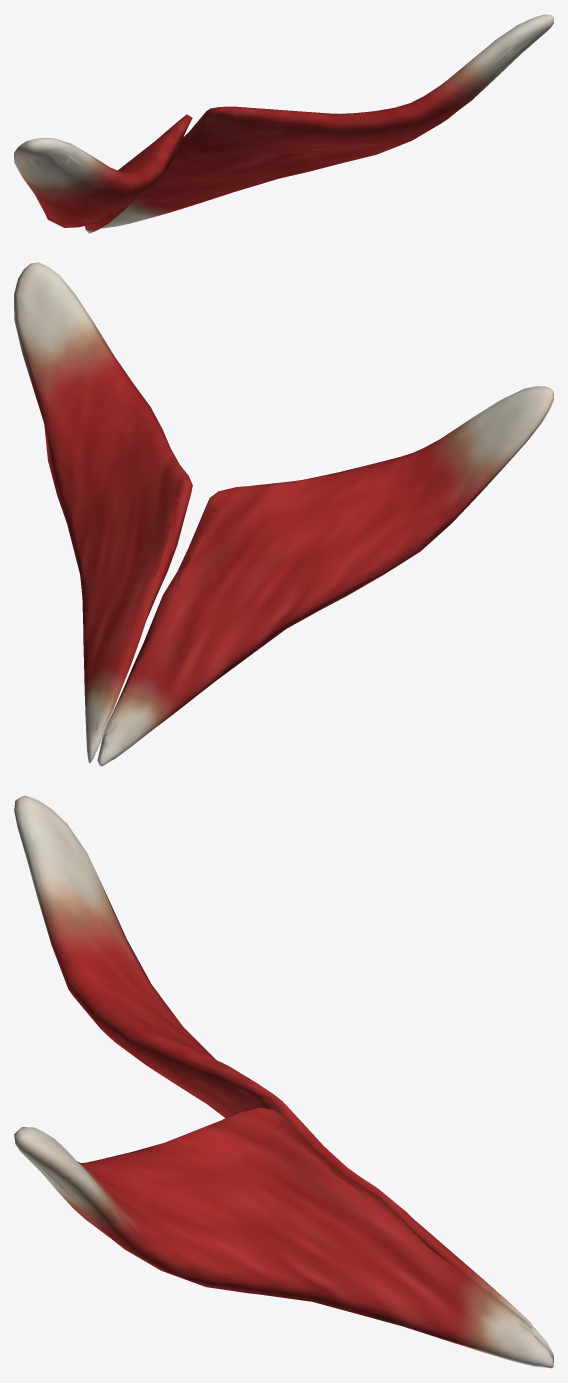
Rendered from Pectoralis Transversus.fbx.
3 views of the same model, one above another, from view 1: azimuth 30°, elevation 25°; view 2: azimuth 150°, elevation 25°; view 3: azimuth 270°, elevation 25° (orthographic). The views are drawn at different scales.
Visible parts, largest first — view 1: Pectoralis Transversus, Pectoralis Transversus low, Pectoralis Transversus high; view 2: Pectoralis Transversus, Pectoralis Transversus high, Pectoralis Transversus low; view 3: Pectoralis Transversus, Pectoralis Transversus high, Pectoralis Transversus low.
Boxes of the visible parts, left/top/right/bottom form: Pectoralis Transversus: left=14, top=14, right=553, bottom=233; Pectoralis Transversus low: left=15, top=14, right=553, bottom=231; Pectoralis Transversus high: left=16, top=17, right=547, bottom=231; Pectoralis Transversus: left=14, top=262, right=553, bottom=766; Pectoralis Transversus high: left=16, top=266, right=546, bottom=764; Pectoralis Transversus low: left=15, top=263, right=553, bottom=766; Pectoralis Transversus: left=14, top=795, right=553, bottom=1368; Pectoralis Transversus high: left=17, top=802, right=553, bottom=1365; Pectoralis Transversus low: left=15, top=796, right=553, bottom=1367.
Bounding box in the file's own units: 3.89 × 2.08 × 2.55.
Materials: 1 (1 with a texture image).
